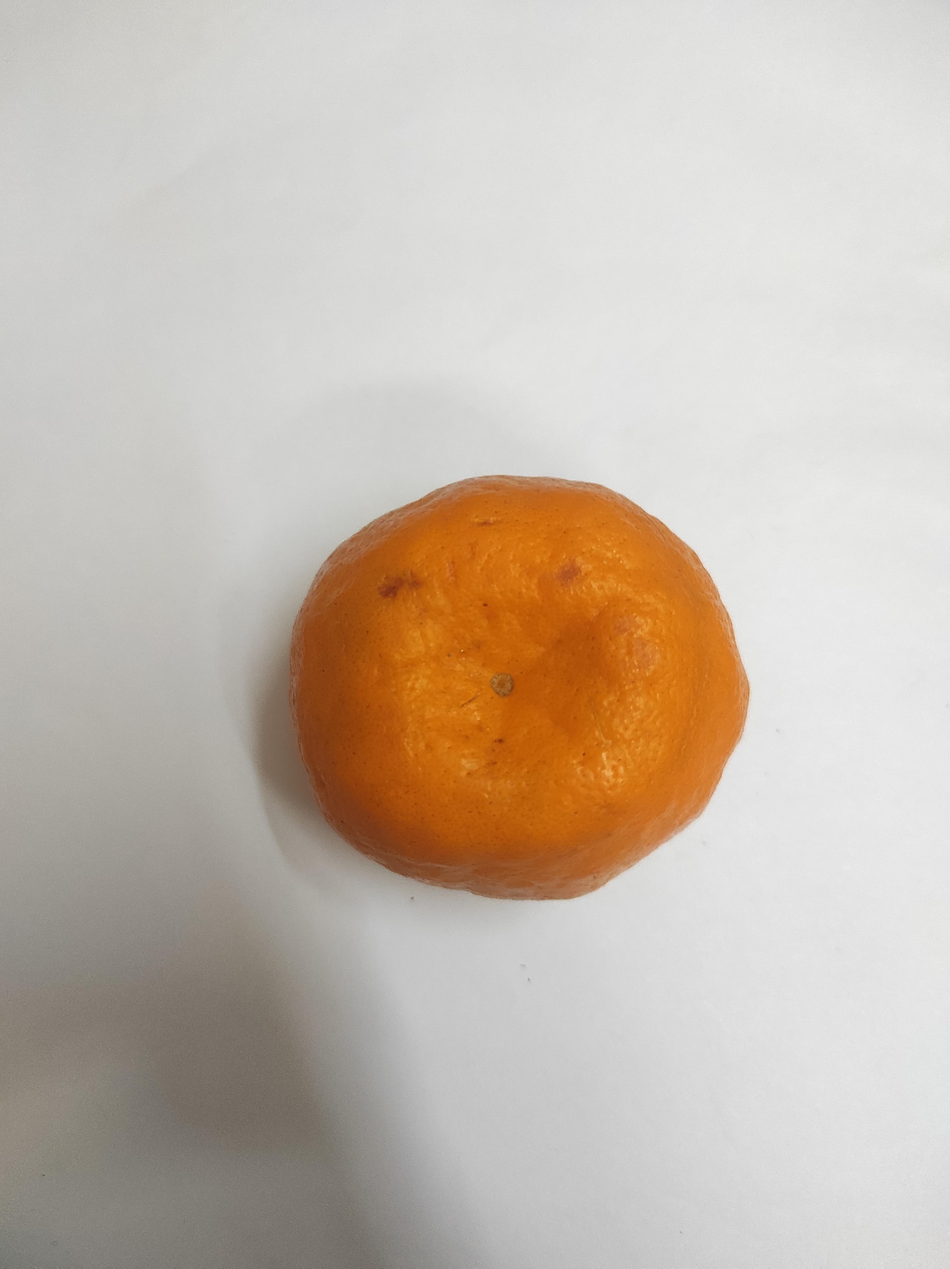Orange Ripe: (215, 633, 559, 1196)
